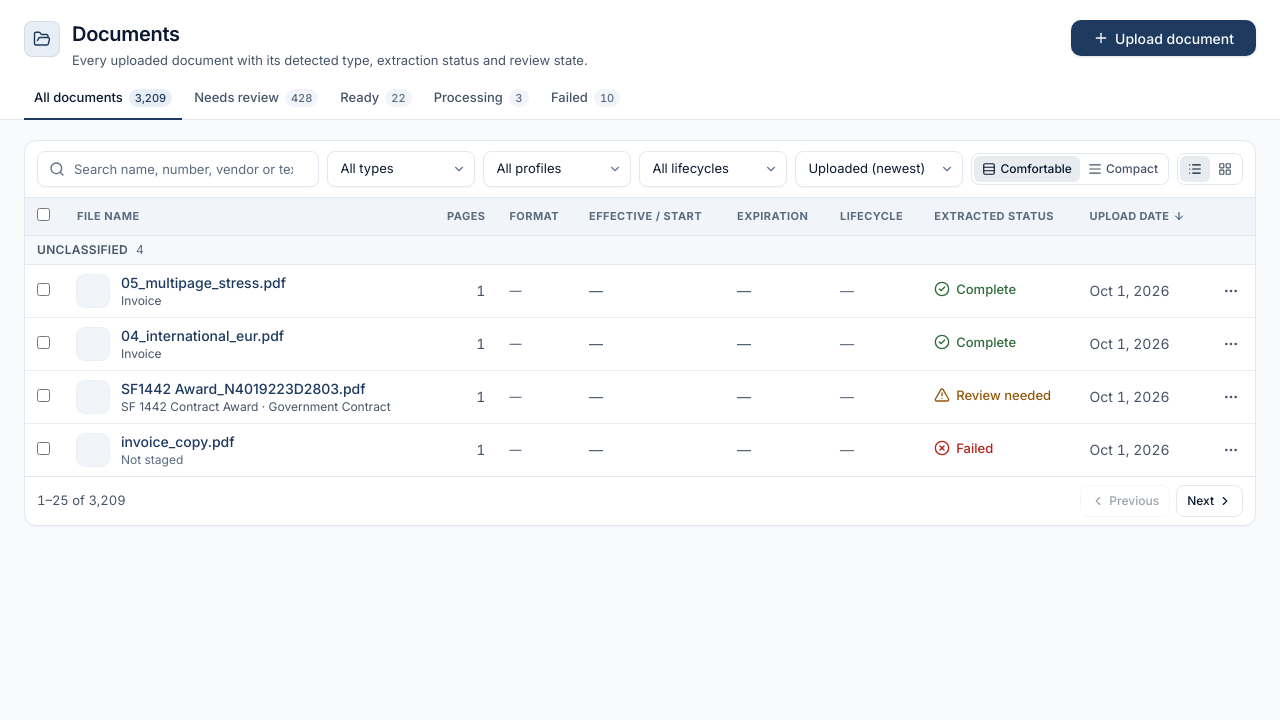
Test case: Documents repository (RC2-02) › deletes a multi-selection behind the same confirmation
The image size is (1280, 720).
Expected: the text "05_multipage_stress.pdf" is shown, [121,273,286,293]
Click the checkbox named "Select 05_multipage_stress.pdf" at [44, 290], box [37,283,50,296]
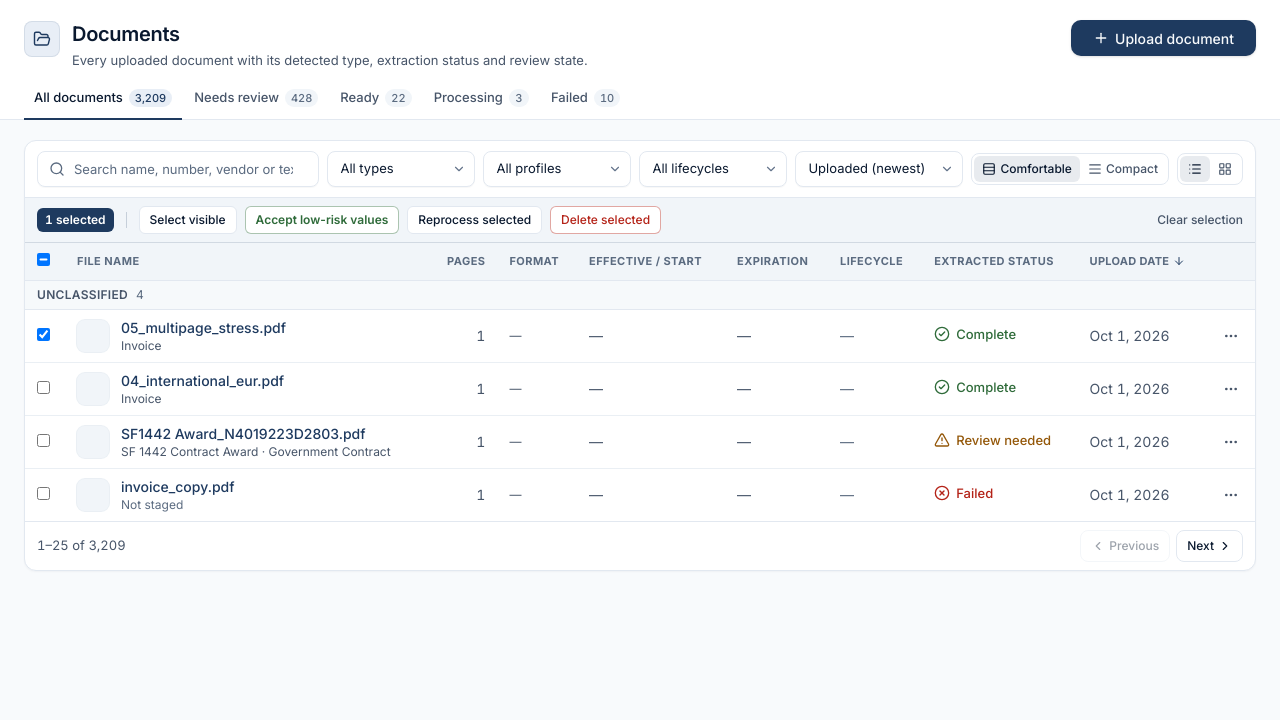
Click the checkbox named "Select 04_international_eur.pdf" at [44, 388], box [37,381,50,394]
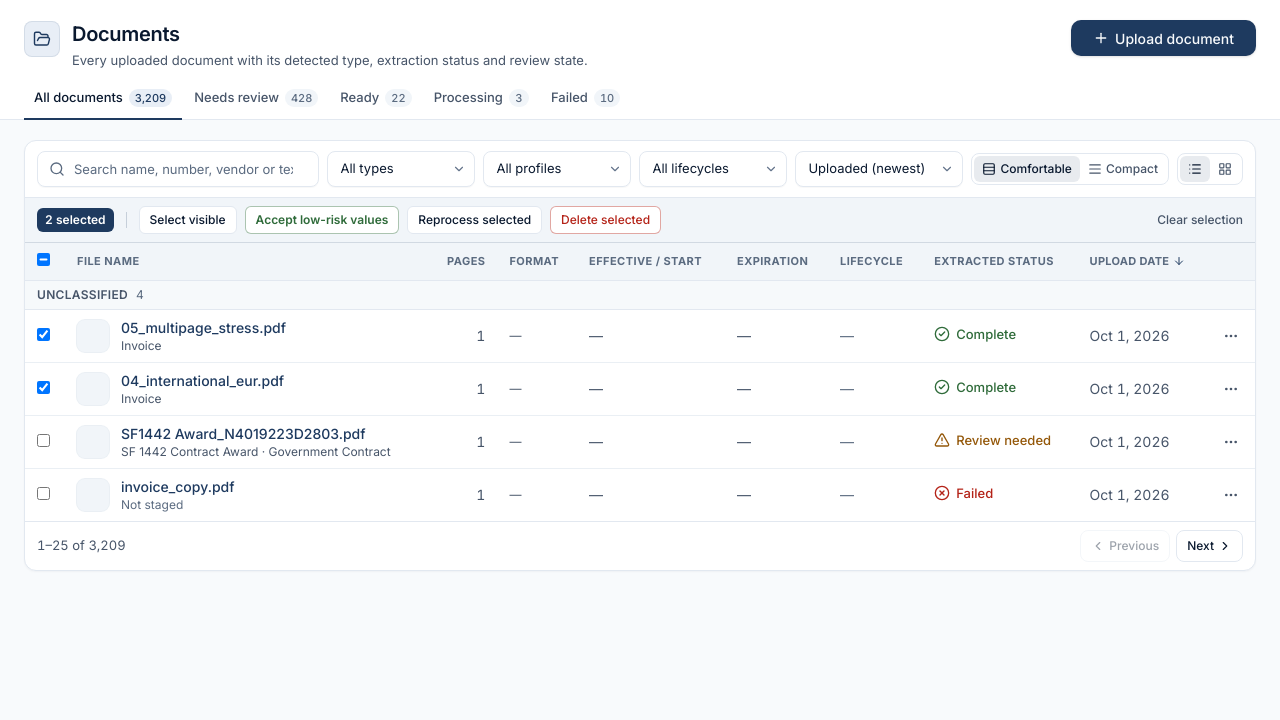
Click the button "Delete selected" at [606, 220], box [550,206,661,234]
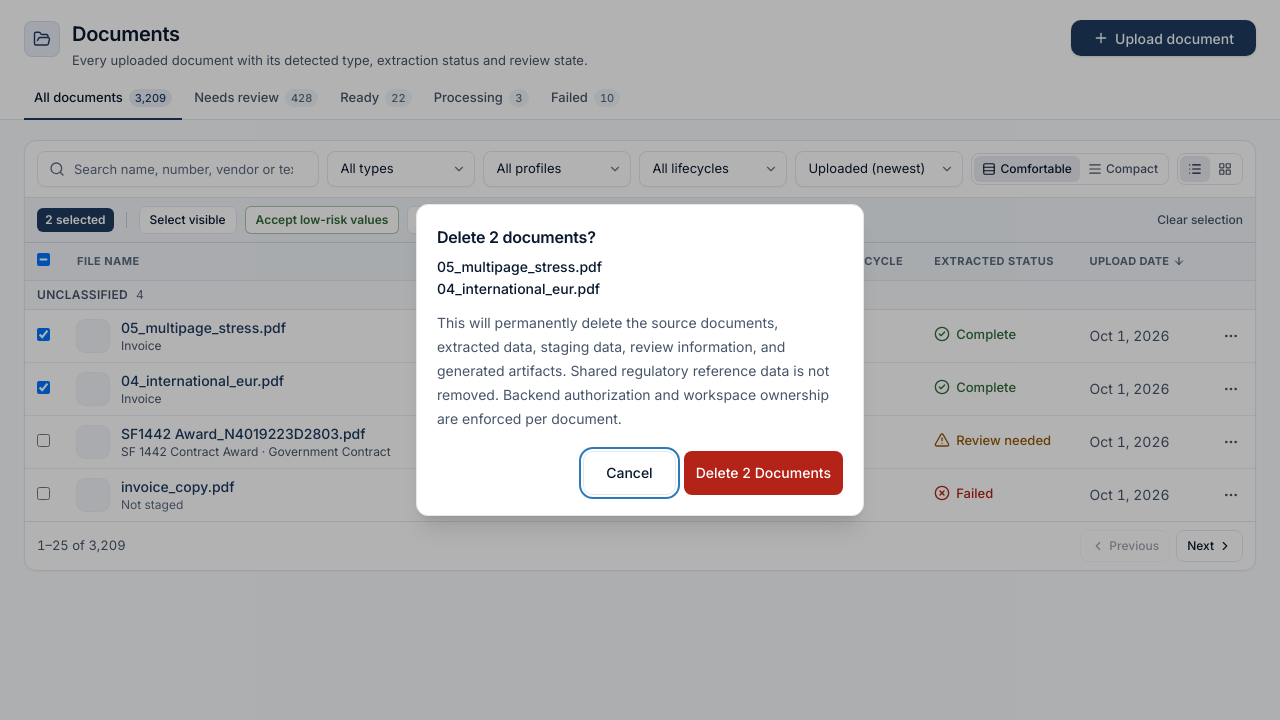
Click the button "Delete 2 Documents" at [763, 473], box [684,451,843,495]
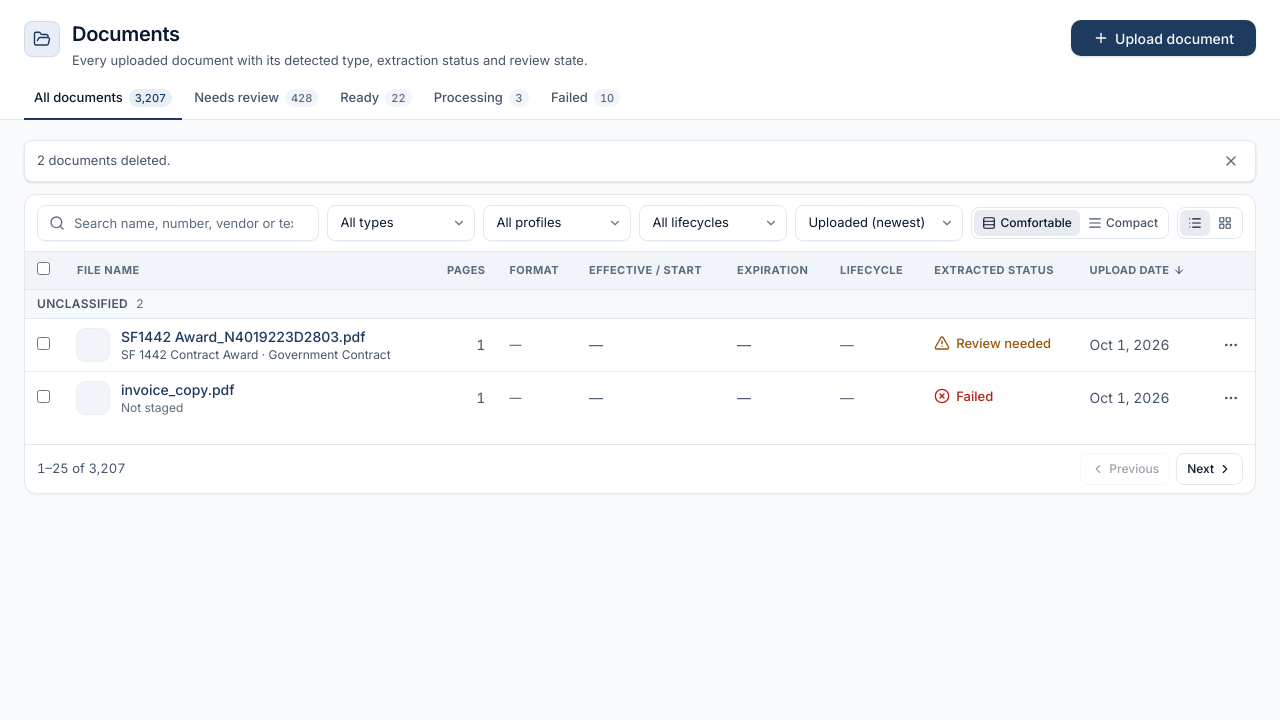
Expected: the text "04_international_eur.pdf" is gone
